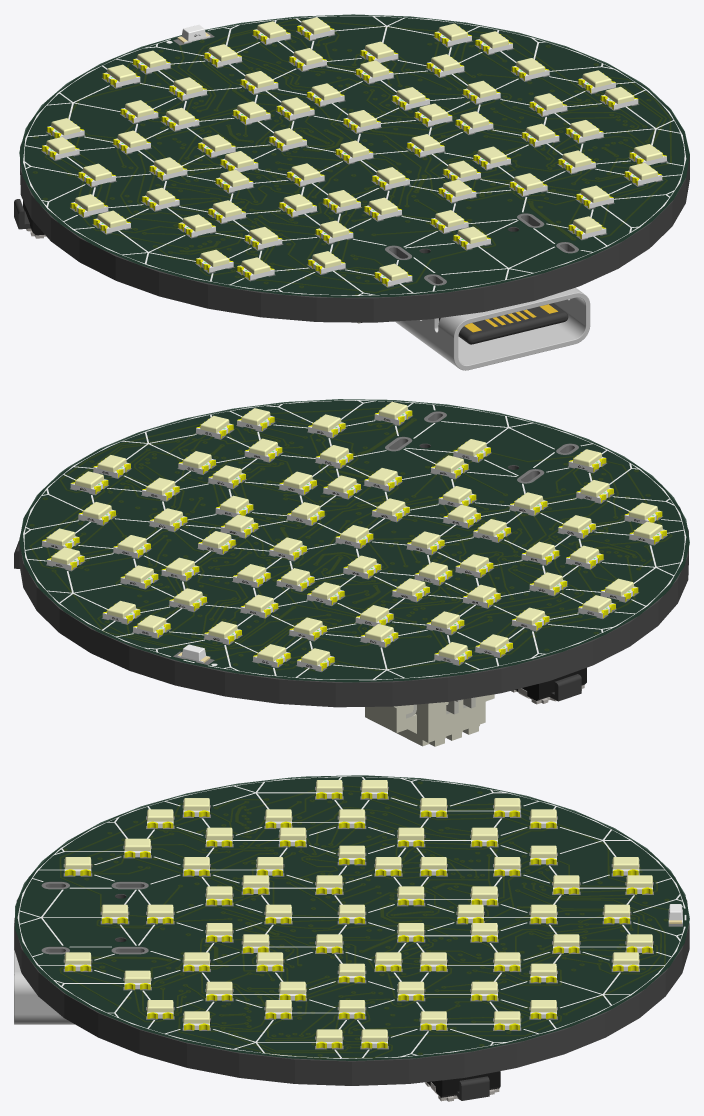
Rendered from board.glb.
3 views of the same model, one above another, from view 1: azimuth 30°, elevation 25°; view 2: azimuth 150°, elevation 25°; view 3: azimuth 270°, elevation 25° (orthographic).
Visible parts, largest first — view 1: sunflower_soldermask, sunflower_PCB, LED-ARRAY-SMD_4P-L1.6-W1.5-BR_XL-1615RGBC-RF (×67), sunflower_copper, USB-C-SMD_TYPE-C-31-M-12, sunflower_silkscreen, sunflower_pad, SW-SMD_EVQP7C01P-L3.6-W3.5-H1.4-P3.6-LS4.7; view 2: sunflower_soldermask, sunflower_PCB, LED-ARRAY-SMD_4P-L1.6-W1.5-BR_XL-1615RGBC-RF (×67), sunflower_silkscreen, sunflower_copper, sunflower_pad, Molex_PicoBlade_53261-0271_1x02-1MP_P1.25mm_Horizontal, SW-SMD_EVQP7C01P-L3.6-W3.5-H1.4-P3.6-LS4.7; view 3: sunflower_soldermask, sunflower_PCB, LED-ARRAY-SMD_4P-L1.6-W1.5-BR_XL-1615RGBC-RF (×67), sunflower_copper, sunflower_silkscreen, sunflower_pad, USB-C-SMD_TYPE-C-31-M-12, SW-SMD_EVQP7C01P-L3.6-W3.5-H1.4-P3.6-LS4.7.
Boxes of the visible parts, box(x1,y1,x2,y2) form: sunflower_soldermask: box(19, 14, 689, 297); sunflower_PCB: box(20, 16, 689, 322); LED-ARRAY-SMD_4P-L1.6-W1.5-BR_XL-1615RGBC-RF (×67): box(42, 17, 666, 286); sunflower_copper: box(33, 19, 671, 294); USB-C-SMD_TYPE-C-31-M-12: box(395, 287, 590, 370); sunflower_silkscreen: box(23, 15, 686, 295); sunflower_pad: box(41, 31, 667, 287); SW-SMD_EVQP7C01P-L3.6-W3.5-H1.4-P3.6-LS4.7: box(14, 199, 46, 238); sunflower_soldermask: box(19, 399, 689, 682); sunflower_PCB: box(19, 401, 688, 707); LED-ARRAY-SMD_4P-L1.6-W1.5-BR_XL-1615RGBC-RF (×67): box(42, 401, 666, 670); sunflower_silkscreen: box(23, 400, 686, 680); sunflower_copper: box(30, 408, 671, 670); sunflower_pad: box(41, 411, 667, 672); Molex_PicoBlade_53261-0271_1x02-1MP_P1.25mm_Horizontal: box(365, 694, 494, 746); SW-SMD_EVQP7C01P-L3.6-W3.5-H1.4-P3.6-LS4.7: box(511, 667, 586, 704); sunflower_soldermask: box(15, 775, 689, 1060); sunflower_PCB: box(14, 777, 689, 1085); LED-ARRAY-SMD_4P-L1.6-W1.5-BR_XL-1615RGBC-RF (×67): box(64, 780, 653, 1048); sunflower_copper: box(60, 782, 668, 1057); sunflower_silkscreen: box(17, 776, 686, 1058); sunflower_pad: box(41, 787, 682, 1049); USB-C-SMD_TYPE-C-31-M-12: box(14, 917, 74, 1024); SW-SMD_EVQP7C01P-L3.6-W3.5-H1.4-P3.6-LS4.7: box(425, 1071, 500, 1101).
Size of the model in its own units: 0.038 by 0.00568 by 0.038.
